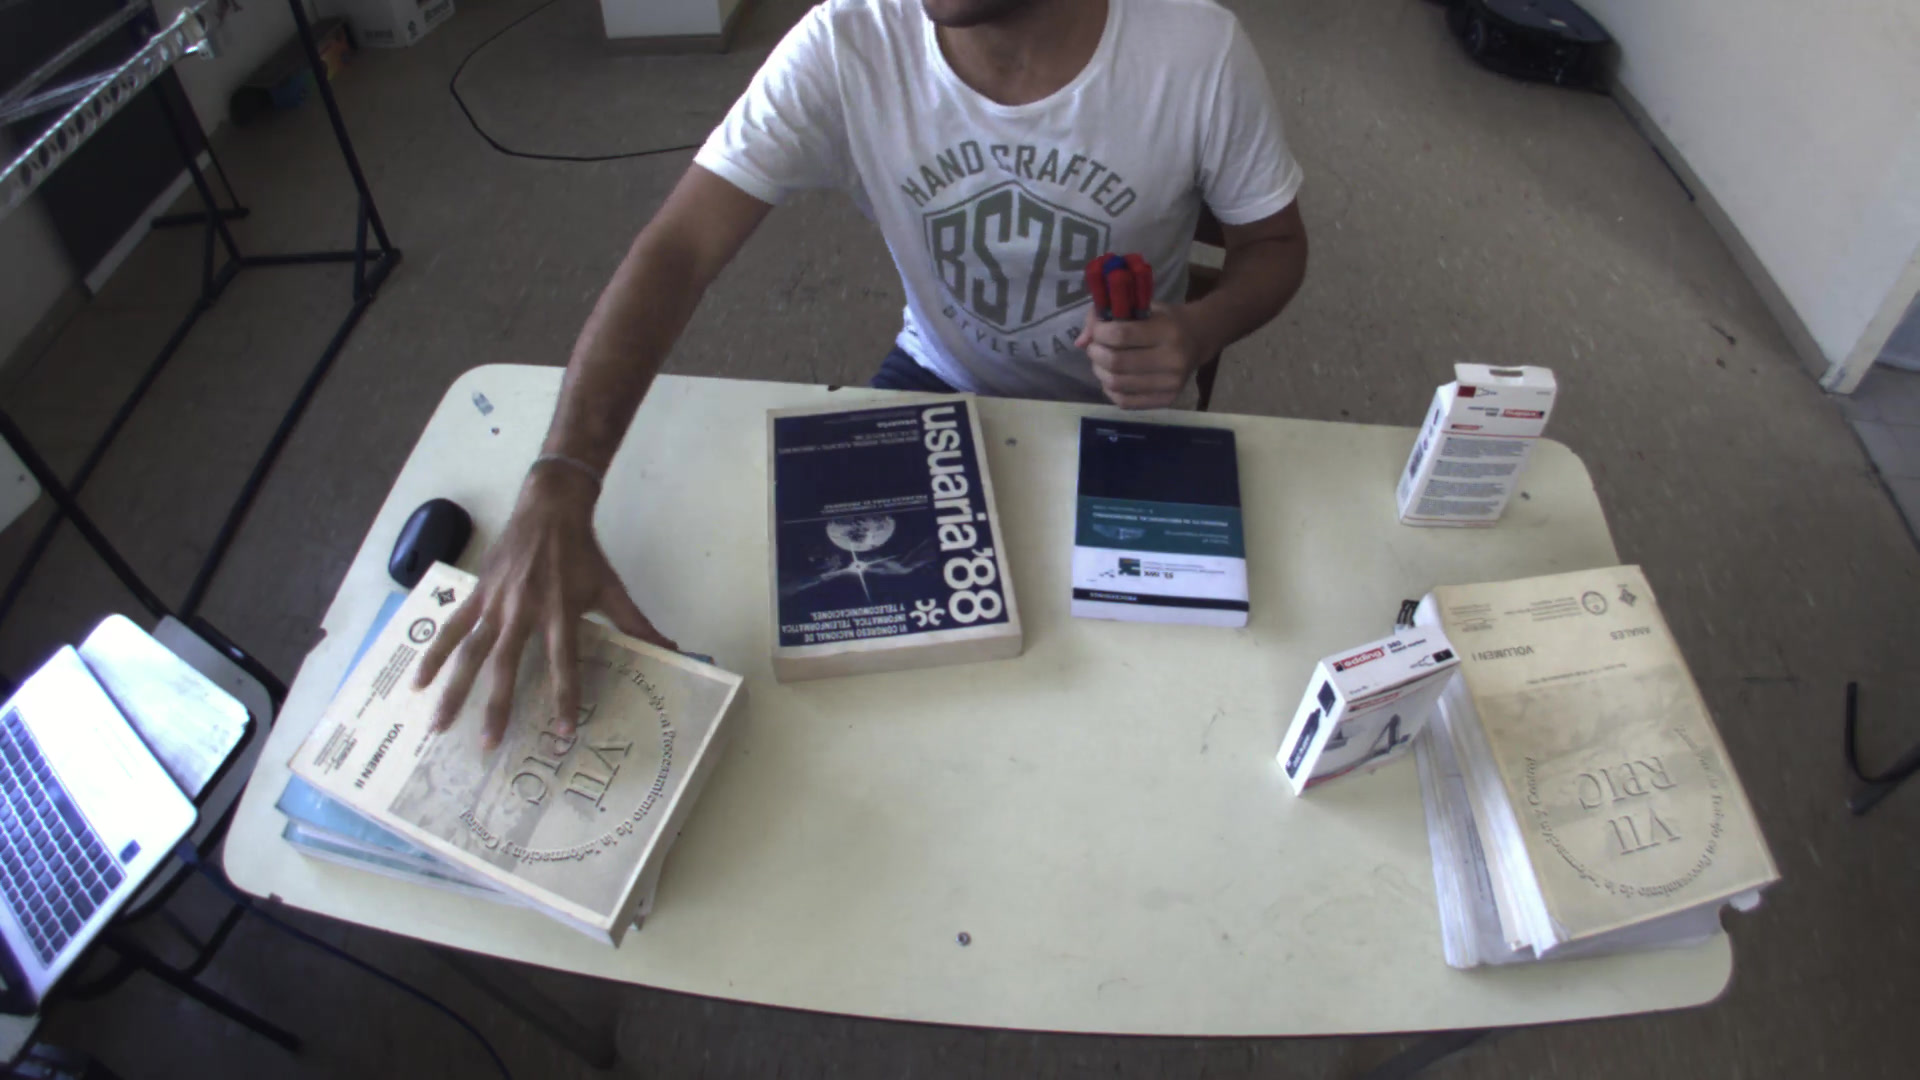hand: (413, 473, 667, 769), (1065, 247, 1211, 417)
